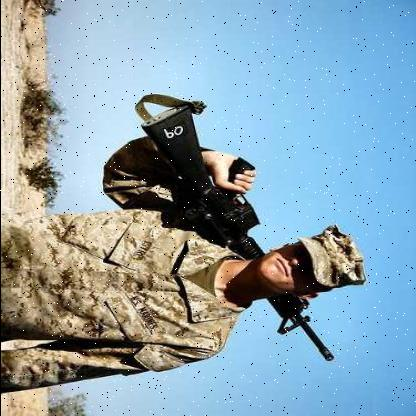rifle: (115, 93, 372, 369)
